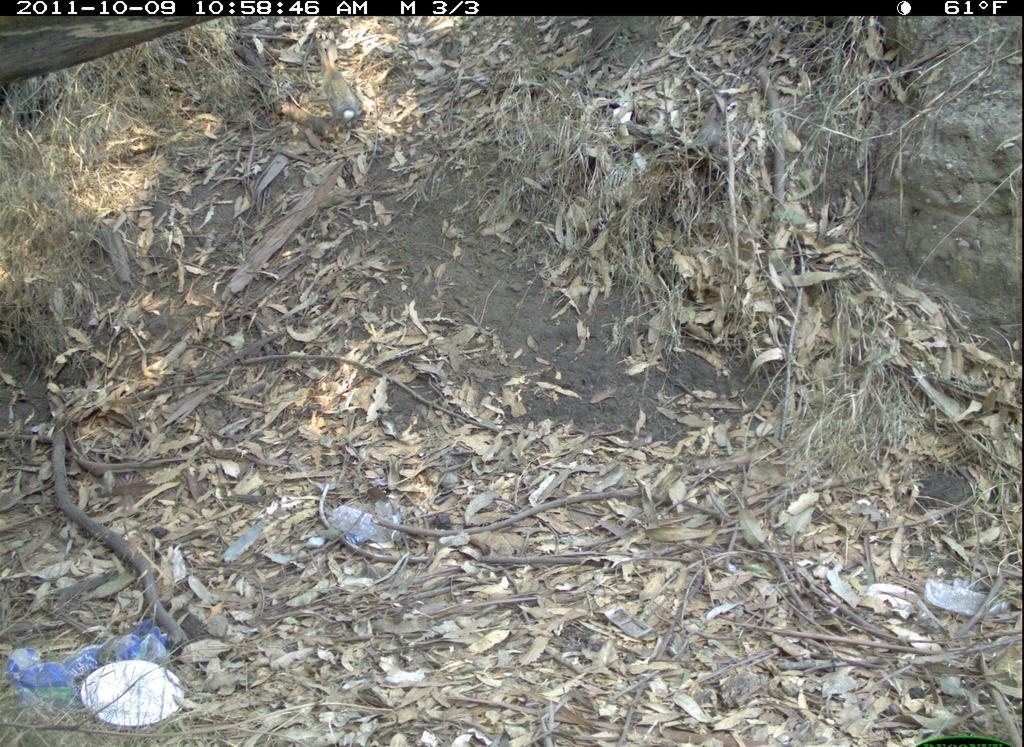rabbit: (313, 35, 374, 132)
